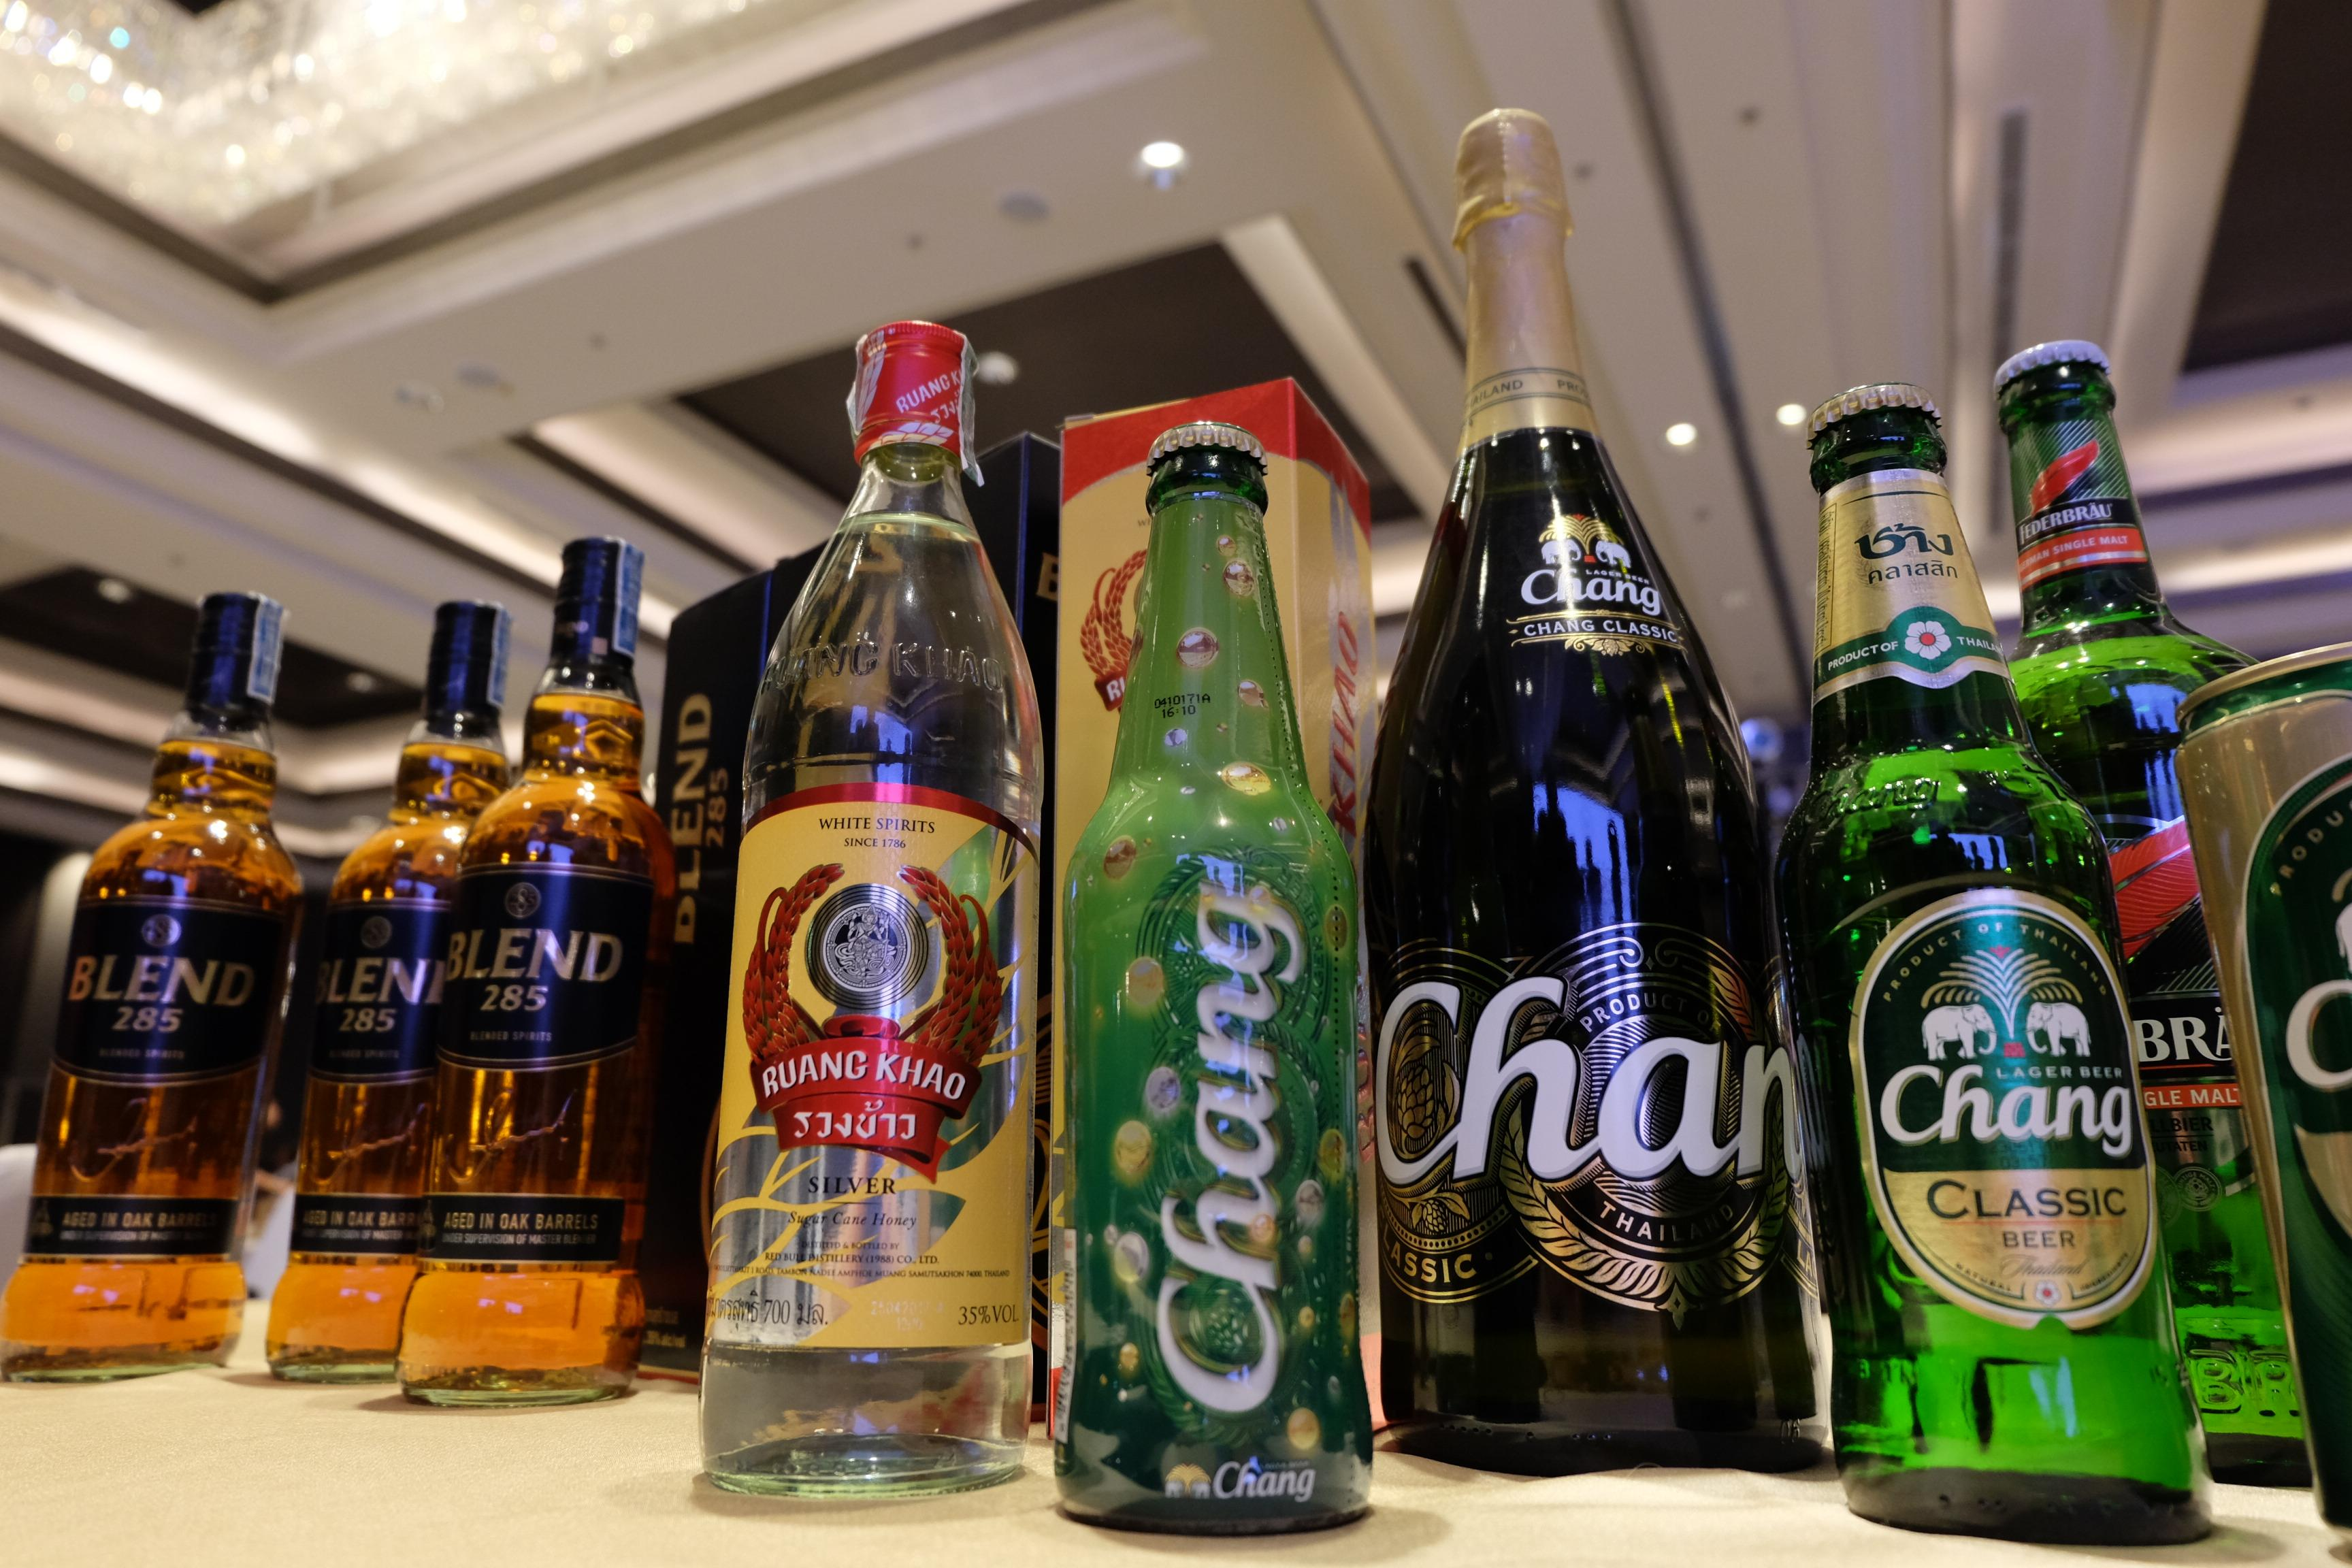glass: (1376, 116, 1811, 1463), (1806, 343, 2287, 1528), (702, 324, 1036, 1510), (275, 532, 667, 1402), (1069, 432, 1372, 1540), (4, 579, 285, 1393)
metal: (2177, 653, 2352, 1558)
